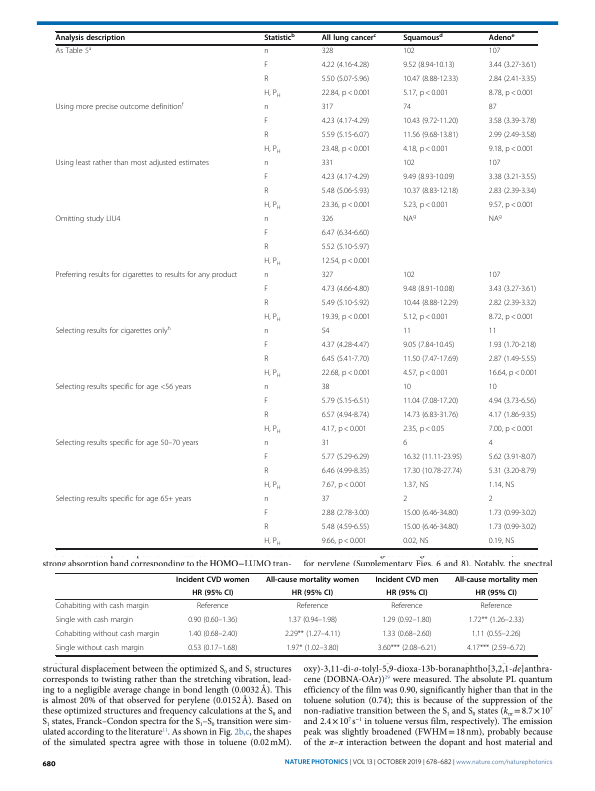borderless: (54, 30, 537, 548), (54, 571, 537, 655)
cell: (55, 271, 238, 281), (55, 159, 210, 169), (55, 101, 184, 113), (55, 439, 199, 449), (55, 325, 172, 337), (55, 383, 192, 393), (55, 495, 192, 505), (54, 629, 160, 639), (54, 601, 150, 611), (55, 643, 145, 653), (265, 575, 360, 584), (54, 615, 134, 625), (454, 575, 538, 584), (175, 575, 250, 584), (55, 215, 121, 225), (55, 34, 126, 43), (321, 32, 377, 43), (402, 453, 463, 463), (402, 467, 463, 477), (377, 643, 437, 653), (466, 643, 526, 653), (374, 575, 439, 584), (402, 75, 459, 85), (402, 117, 459, 127), (402, 131, 459, 141), (402, 187, 459, 197), (402, 299, 459, 309), (402, 355, 459, 365), (402, 397, 459, 407), (402, 411, 459, 421), (402, 509, 459, 519), (402, 523, 459, 533), (468, 615, 525, 625), (284, 629, 341, 639), (285, 643, 339, 653), (402, 61, 455, 71), (402, 173, 455, 183), (402, 285, 455, 295), (402, 341, 455, 351), (187, 615, 238, 625), (287, 615, 338, 625), (381, 615, 432, 625), (187, 629, 238, 639), (381, 629, 432, 639), (471, 629, 522, 639), (187, 643, 238, 653), (321, 89, 371, 99), (321, 145, 371, 155), (321, 201, 371, 211), (321, 257, 371, 267), (321, 313, 371, 323), (321, 369, 371, 379), (488, 369, 538, 379), (321, 61, 370, 71), (488, 61, 537, 71), (321, 75, 370, 85), (488, 75, 537, 85), (321, 117, 370, 127), (488, 117, 537, 127), (321, 131, 370, 141), (488, 131, 537, 141), (321, 173, 370, 183), (488, 173, 537, 183), (321, 187, 370, 197), (488, 187, 537, 197), (321, 229, 370, 239), (321, 243, 370, 253), (321, 285, 370, 295), (488, 285, 537, 295), (321, 299, 370, 309), (488, 299, 537, 309), (321, 341, 370, 351), (488, 341, 537, 351), (321, 355, 370, 365), (488, 355, 537, 365), (321, 397, 370, 407), (488, 397, 537, 407), (321, 411, 370, 421), (488, 411, 537, 421), (321, 453, 370, 463), (488, 453, 537, 463), (321, 467, 370, 477), (488, 467, 537, 477), (321, 509, 370, 519), (488, 509, 537, 519), (321, 523, 370, 533), (488, 523, 537, 533), (402, 89, 449, 99), (488, 89, 535, 99), (402, 145, 449, 155), (488, 145, 535, 155), (402, 201, 449, 211), (488, 201, 535, 211), (402, 313, 449, 323), (488, 313, 535, 323), (402, 369, 449, 379), (321, 425, 368, 435), (488, 425, 535, 435), (321, 481, 368, 491), (321, 537, 368, 547), (402, 32, 444, 43), (55, 45, 92, 57), (402, 425, 445, 435), (191, 588, 234, 598), (291, 588, 334, 598), (385, 588, 428, 598), (475, 588, 518, 598), (263, 32, 296, 43), (390, 601, 424, 611), (479, 601, 513, 611), (196, 601, 229, 611), (296, 601, 329, 611), (488, 32, 515, 43), (402, 481, 429, 491), (488, 481, 515, 491), (402, 537, 429, 547), (488, 537, 515, 547), (263, 89, 282, 99), (263, 145, 282, 155), (263, 201, 282, 211), (263, 257, 282, 267), (263, 313, 282, 323), (263, 369, 282, 379), (263, 425, 282, 435), (263, 481, 282, 491), (263, 537, 282, 547), (402, 213, 417, 225), (488, 213, 503, 225), (402, 47, 416, 57), (402, 159, 416, 169), (402, 271, 416, 281), (321, 47, 334, 57), (488, 47, 501, 57), (321, 103, 334, 113), (321, 159, 334, 169), (488, 159, 501, 169), (321, 215, 334, 225), (321, 271, 334, 281), (488, 271, 501, 281), (402, 103, 412, 113), (402, 327, 412, 337), (402, 383, 412, 393), (488, 103, 497, 113), (321, 327, 330, 337), (488, 327, 497, 337), (321, 383, 330, 393), (488, 383, 497, 393), (321, 439, 330, 449), (321, 495, 330, 505), (263, 47, 269, 57), (263, 61, 269, 71), (263, 75, 269, 85), (263, 103, 269, 113), (263, 117, 269, 127), (263, 131, 269, 141), (263, 159, 269, 169), (263, 173, 269, 183), (263, 187, 269, 197), (263, 215, 269, 225), (263, 229, 269, 239), (263, 243, 269, 253), (263, 271, 269, 281), (263, 285, 269, 295), (263, 299, 269, 309), (263, 327, 269, 337), (263, 341, 269, 351), (263, 355, 269, 365), (263, 383, 269, 393), (263, 397, 269, 407), (263, 411, 269, 421), (263, 439, 269, 449), (402, 439, 408, 449), (488, 439, 494, 449), (263, 453, 269, 463), (263, 467, 269, 477), (263, 495, 269, 505), (402, 495, 408, 505), (488, 495, 494, 505), (263, 509, 269, 519), (263, 523, 269, 533)
